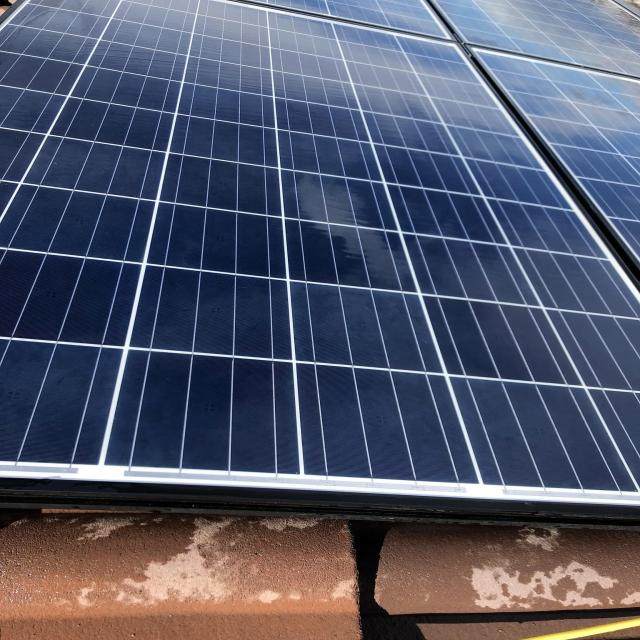clean-solar-panel: (3, 0, 637, 491)
